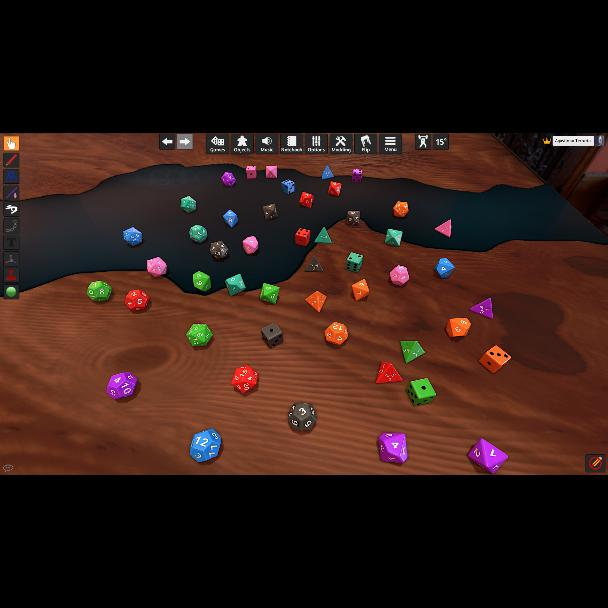d10: (378, 432, 408, 462), (446, 318, 472, 338), (224, 274, 246, 296), (433, 258, 453, 278), (192, 272, 212, 292), (242, 236, 258, 254), (298, 191, 314, 206), (345, 210, 359, 226)
d12: (188, 426, 222, 464), (106, 372, 138, 399), (288, 404, 318, 432), (87, 282, 113, 302), (324, 322, 346, 344), (125, 290, 149, 310), (390, 265, 410, 285), (189, 226, 207, 242)
d20: (229, 364, 256, 390), (188, 324, 213, 346), (147, 256, 167, 278), (123, 226, 143, 246), (209, 241, 226, 259), (180, 196, 196, 214), (220, 171, 236, 186), (393, 201, 407, 217)
d4: (376, 362, 400, 384), (400, 341, 422, 363), (470, 298, 494, 318), (306, 291, 324, 311), (435, 220, 451, 238), (304, 256, 321, 272), (314, 228, 330, 244), (321, 165, 333, 180)
d6: (479, 345, 512, 374), (406, 378, 434, 406), (261, 322, 283, 348), (346, 252, 364, 272), (295, 228, 309, 246), (281, 180, 294, 195), (352, 169, 363, 183), (246, 165, 256, 178)
d8: (468, 435, 506, 470), (260, 283, 280, 303), (351, 280, 369, 300), (386, 228, 402, 246), (222, 209, 238, 226), (263, 203, 277, 220), (328, 181, 342, 197), (266, 166, 276, 178)
